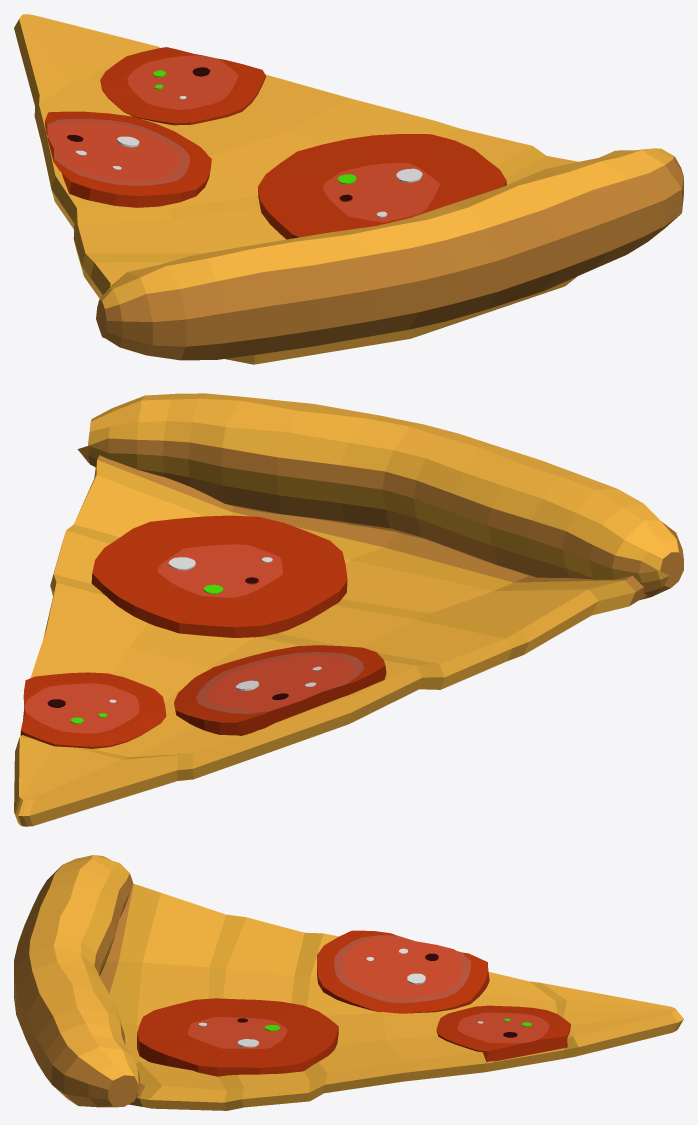
File: Pizza.fbx
3 renders of one model, top to bottom at view 1: azimuth 30°, elevation 25°; view 2: azimuth 150°, elevation 25°; view 3: azimuth 270°, elevation 25°, orthographic. The views are drawn at different scales.
Visible parts, largest first — view 1: Pizza; view 2: Pizza; view 3: Pizza.
Boxes of the visible parts, box(x1,y1,x2,y2) form: Pizza: box(14, 14, 683, 364); Pizza: box(14, 393, 683, 826); Pizza: box(14, 855, 683, 1110).
Size of the model in its own units: 14.39 by 2.95 by 18.2.
